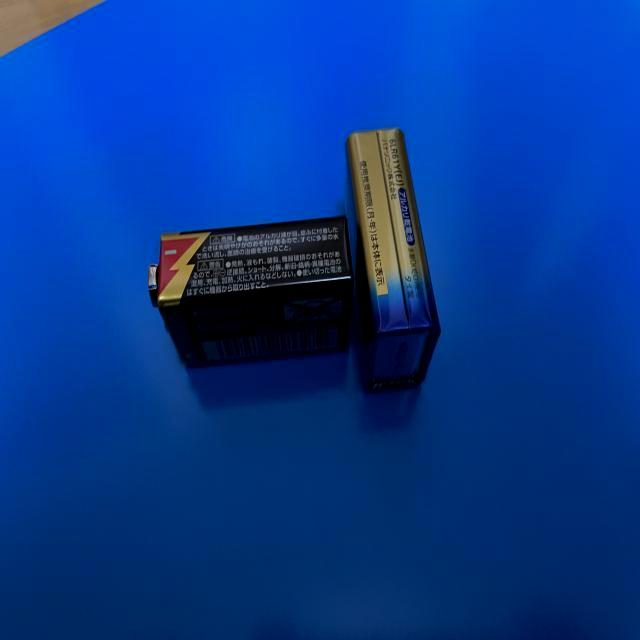9V: (145, 213, 354, 369), (345, 126, 442, 392)
